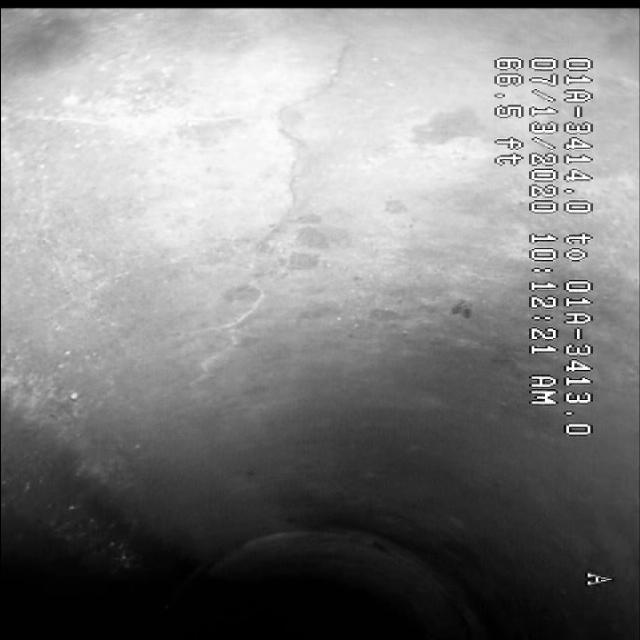Crack: (212, 74, 358, 342)
